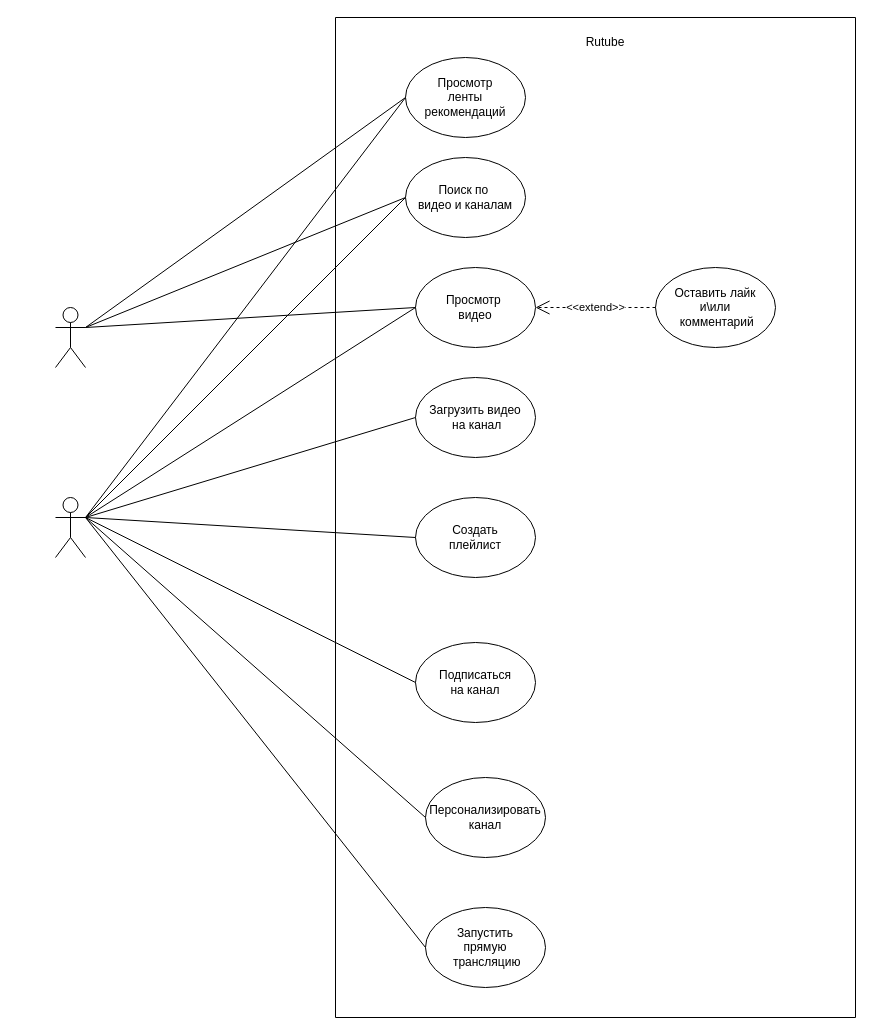
This 873x1035 diagram has some shape labels left out. Each missing label, with the centre of its shape:
"Авторизованный пользователь" belongs at point 70,527.
"Неавторизованный пользователь" belongs at point 70,337.
